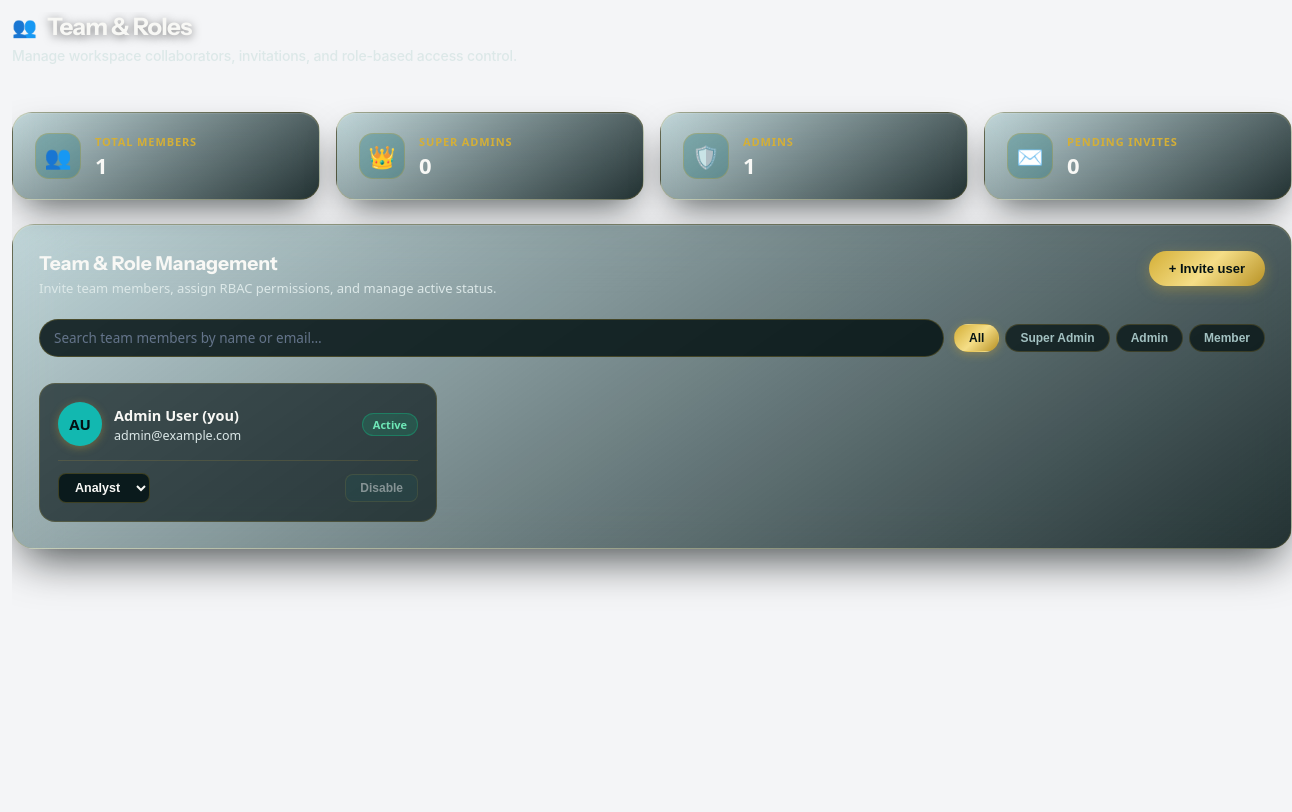
TeamPage › sends an invitation and shows an accept-invitation link
Expected: the text "Admin User (you)" is shown, x1=114 y1=404 x2=239 y2=424
Step 1. Click the button "+ Invite user" → (1207, 268), box x1=1149 y1=251 x2=1265 y2=286
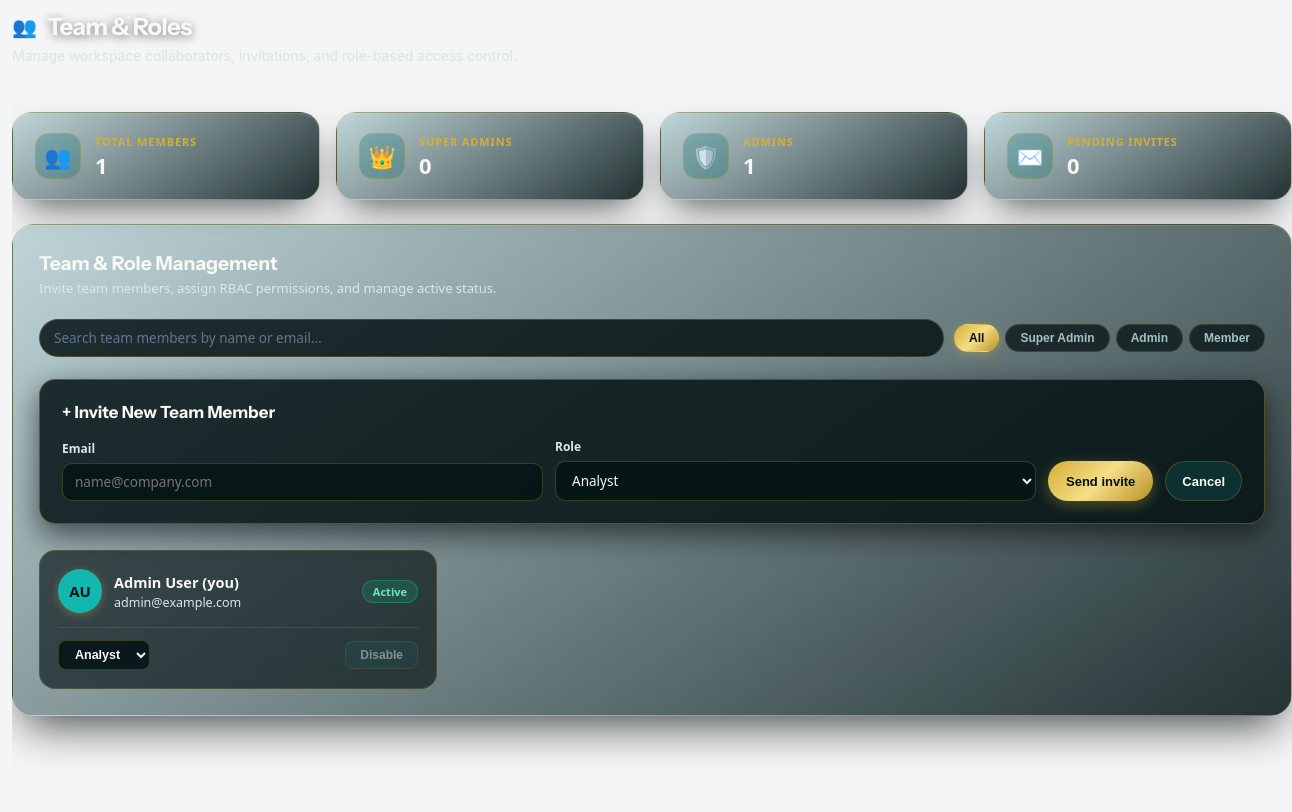
Step 2. Type "new@example.com" into the field labelled "Email" → (302, 482), box x1=62 y1=463 x2=543 y2=501
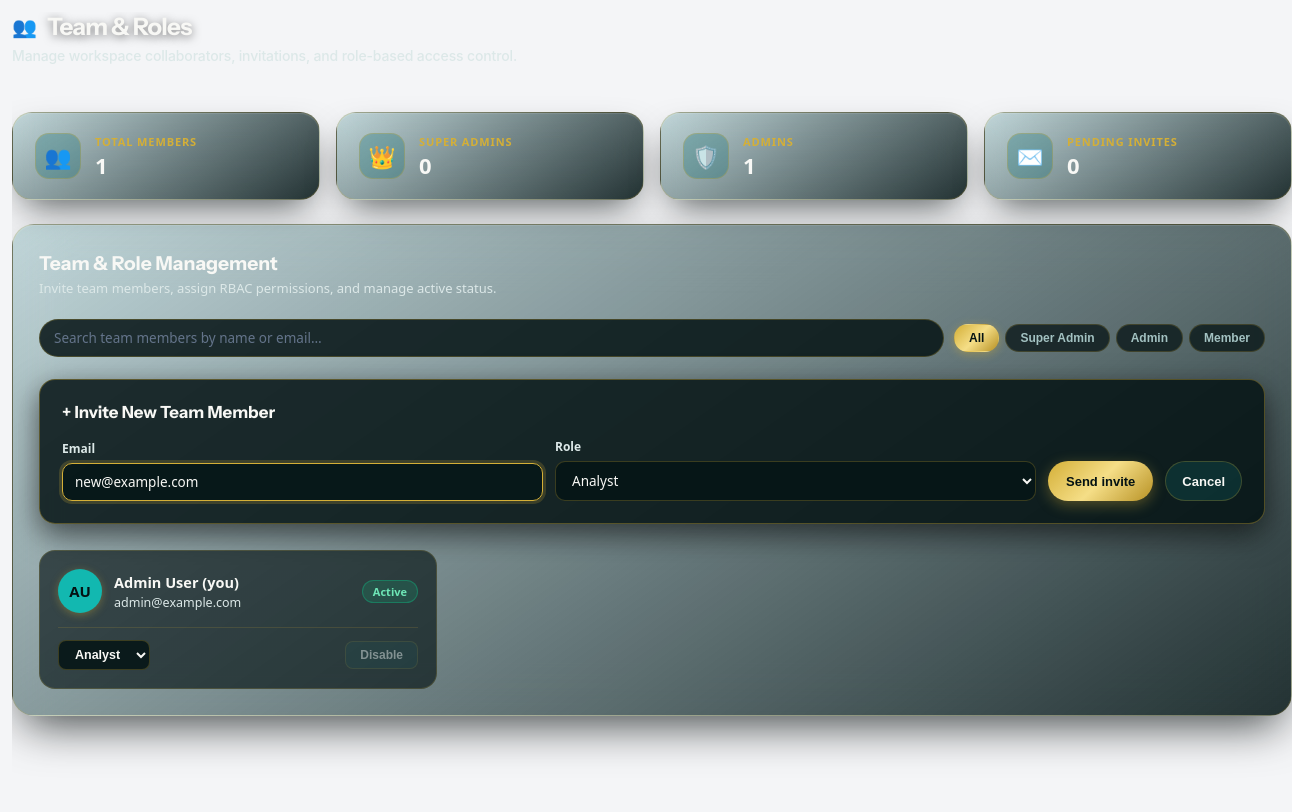
Step 3. Click the button "Send invite" → (1101, 481), box x1=1048 y1=461 x2=1153 y2=501
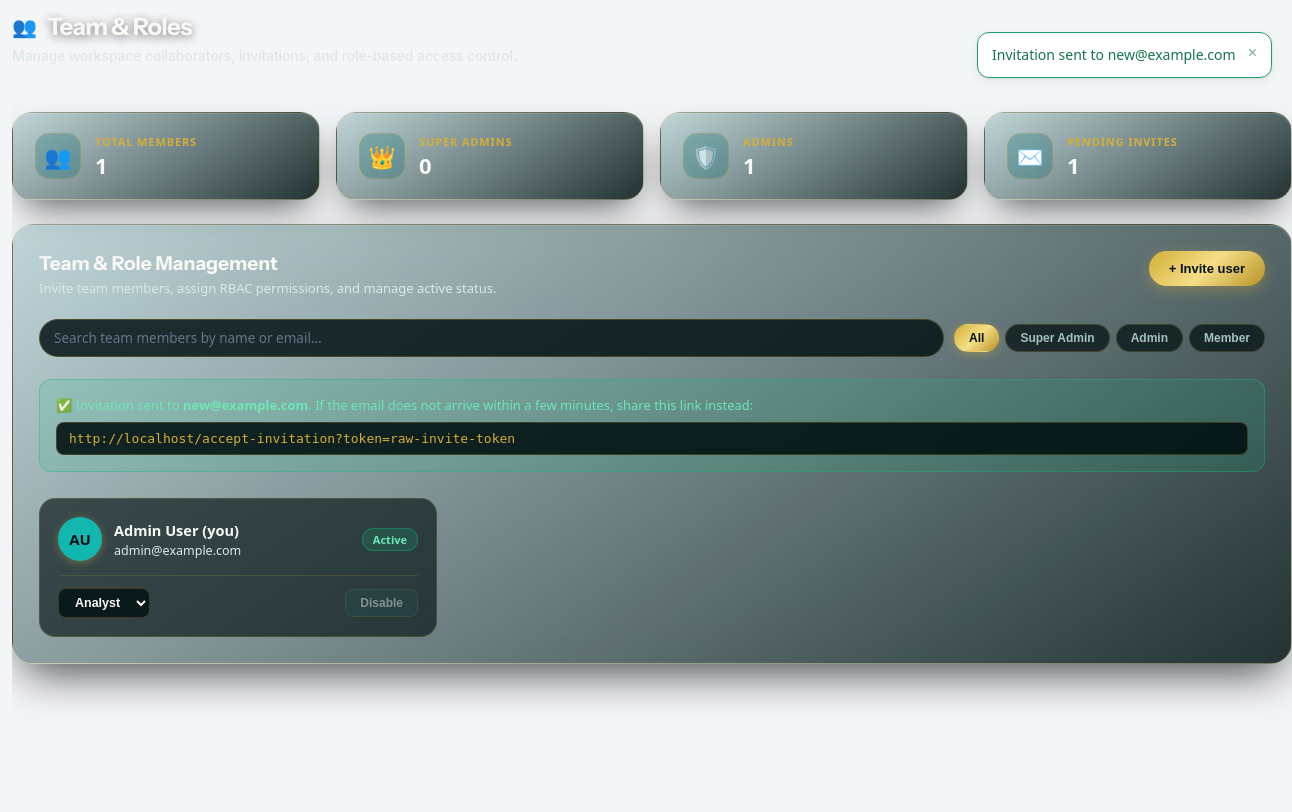
Expected: the text "Invitation sent to new@example.com" is shown, x1=992 y1=45 x2=1236 y2=65
Expected: the text "http://localhost/accept-invitation?token=raw-invite-token" is shown, x1=56 y1=422 x2=1248 y2=455
